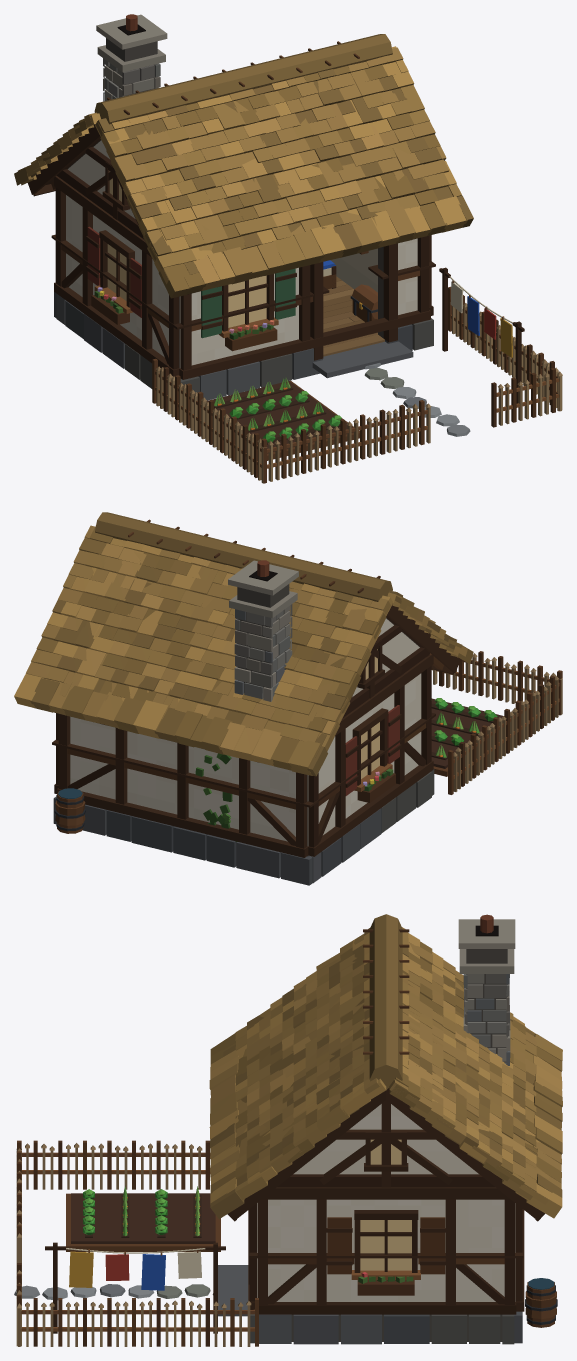
The model's file is cottage-2.glb.
The picture shows the model from 3 angles, top to bottom: view 1: azimuth 30°, elevation 25°; view 2: azimuth 150°, elevation 25°; view 3: azimuth 270°, elevation 25°; orthographic projection. The views are drawn at different scales.
Visible parts, largest first — view 1: cottage-2_shell, cottage-2_interior, cottage-2_glass, cottage-2_cap; view 2: cottage-2_shell, cottage-2_interior, cottage-2_cap, cottage-2_glass; view 3: cottage-2_shell, cottage-2_interior, cottage-2_glass, cottage-2_cap.
Part boxes in pixels (x1,y1,x2,y2): cottage-2_shell: [14, 14, 473, 400]; cottage-2_interior: [152, 260, 562, 483]; cottage-2_glass: [107, 171, 266, 327]; cottage-2_cap: [51, 234, 435, 329]; cottage-2_shell: [14, 512, 473, 885]; cottage-2_interior: [54, 651, 562, 833]; cottage-2_cap: [52, 713, 435, 807]; cottage-2_glass: [361, 649, 379, 778]; cottage-2_shell: [209, 914, 562, 1344]; cottage-2_interior: [14, 1140, 557, 1346]; cottage-2_glass: [360, 1139, 411, 1270]; cottage-2_cap: [249, 1209, 523, 1258].
Size of the model in its own units: 7.3 by 6.92 by 10.62.
